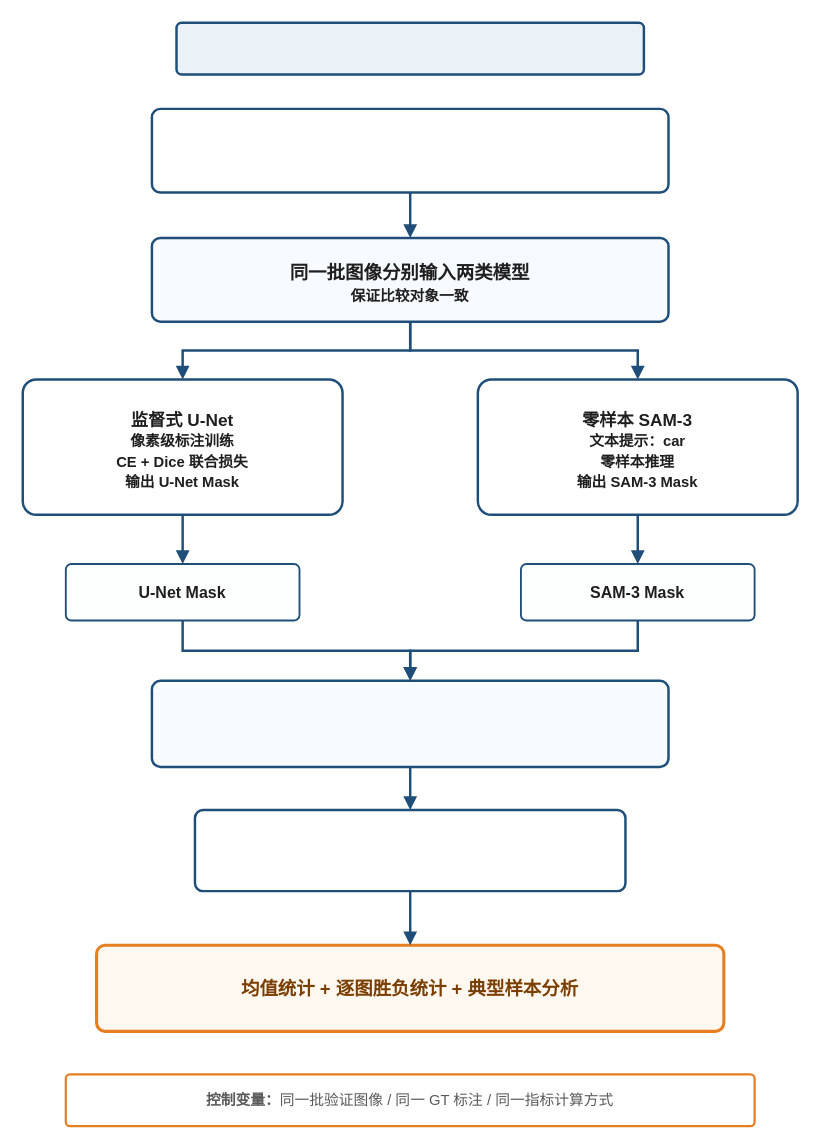
This 819x1148 diagram has some shape labels left out. Here are the shapes that lost their labels. From the top down, the centre of each, then its label:
At point 410,48: "统一评估流程".
At point 409,150: "Carvana 验证图像 + GT Mask 统一输入数据与真实标注".
At point 409,723: "预测结果统一处理 Mask 尺寸对齐 / 二值化处理 / 计算口径一致".
At point 409,850: "与同一 GT Mask 计算 Dice / IoU Dice / IoU 逐图评估".
